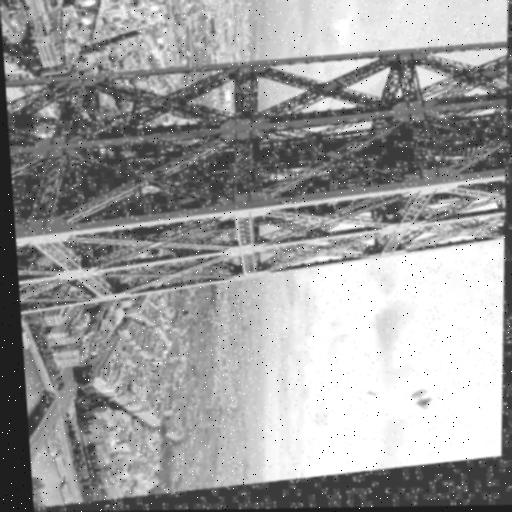balloon: (423, 408, 442, 421), (419, 397, 438, 409)
